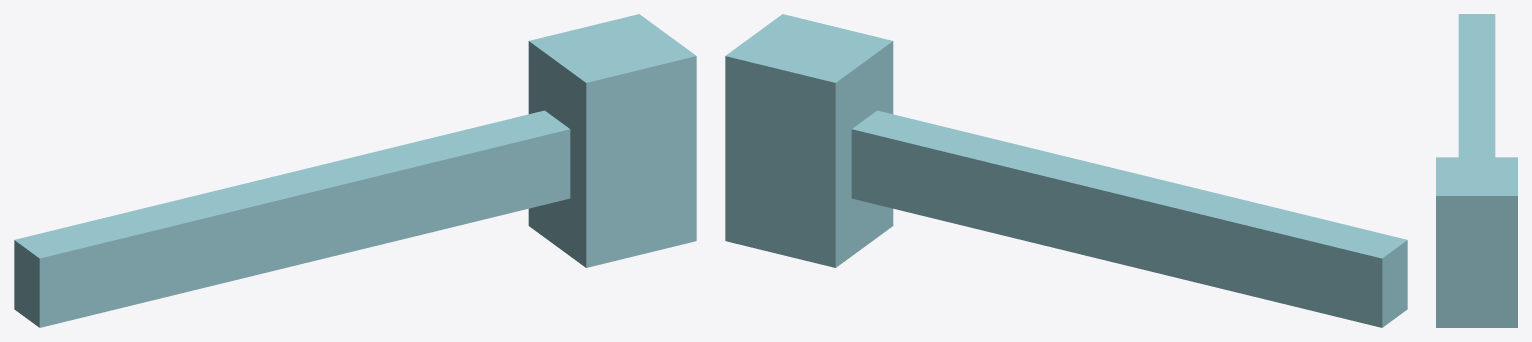
The model's file is cuboidal_mallet.obj.
3 views of the same model, side by side, from view 1: azimuth 30°, elevation 25°; view 2: azimuth 150°, elevation 25°; view 3: azimuth 270°, elevation 25° (orthographic). The views are drawn at different scales.
Bounding box in the file's own units: 0.29 × 0.08 × 0.045.
